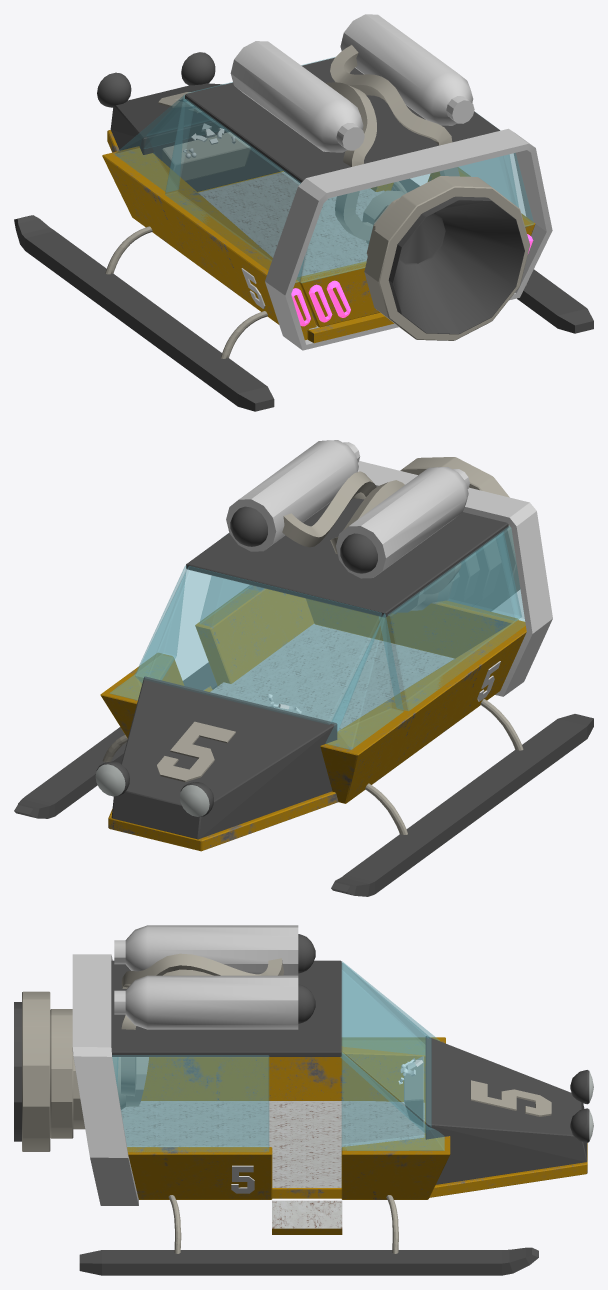
The model's file is skool-flyer-2.fbx.
3 views of the same model, one above another, from view 1: azimuth 30°, elevation 25°; view 2: azimuth 150°, elevation 25°; view 3: azimuth 270°, elevation 25° (orthographic). The views are drawn at different scales.
Parts seen in each view (by area): view 1: mesh_903776124.003, mesh_903776124.029, mesh_903776124.046, mesh_903776124.008, mesh_903776124.024, mesh_903776124.015, mesh_903776124.012, mesh_903776124.048, mesh_903776124.063, mesh_903776124.055, mesh_903776124.001, mesh_903776124.010 (+11 smaller); view 2: mesh_903776124.045, mesh_903776124.010, mesh_903776124.046, mesh_903776124.015, mesh_903776124.012, mesh_903776124.008, mesh_903776124.024, mesh_903776124.011, mesh_903776124.029, mesh_903776124.013, mesh_903776124.063, mesh_903776124.055 (+20 smaller); view 3: mesh_903776124.012, mesh_903776124.010, mesh_903776124.047, mesh_903776124.008, mesh_903776124.026, mesh_903776124.029, mesh_903776124.015, mesh_903776124.055, mesh_903776124.045, mesh_903776124.011, mesh_903776124.063, mesh_903776124.014 (+18 smaller).
Boxes of the visible parts, x1,y1,x2,y2 form: mesh_903776124.003: (388, 196, 524, 334); mesh_903776124.029: (265, 128, 552, 350); mesh_903776124.046: (165, 99, 304, 282); mesh_903776124.008: (102, 146, 316, 340); mesh_903776124.024: (14, 215, 274, 411); mesh_903776124.015: (185, 57, 499, 183); mesh_903776124.012: (198, 172, 393, 343); mesh_903776124.048: (297, 154, 518, 283); mesh_903776124.063: (230, 41, 363, 152); mesh_903776124.055: (340, 14, 473, 125); mesh_903776124.001: (364, 176, 529, 340); mesh_903776124.010: (110, 83, 282, 191); mesh_903776124.045: (135, 566, 382, 731); mesh_903776124.010: (111, 676, 337, 839); mesh_903776124.046: (379, 526, 525, 711); mesh_903776124.015: (186, 498, 508, 617); mesh_903776124.012: (210, 624, 454, 730); mesh_903776124.008: (320, 620, 526, 803); mesh_903776124.024: (331, 714, 593, 896); mesh_903776124.011: (195, 585, 313, 685); mesh_903776124.029: (357, 461, 552, 696); mesh_903776124.013: (306, 598, 518, 658); mesh_903776124.063: (349, 467, 468, 576); mesh_903776124.055: (239, 440, 358, 549); mesh_903776124.012: (121, 1101, 425, 1198); mesh_903776124.010: (425, 1036, 587, 1184); mesh_903776124.047: (112, 1055, 269, 1151); mesh_903776124.008: (141, 1037, 445, 1102); mesh_903776124.026: (79, 1247, 538, 1275); mesh_903776124.029: (72, 954, 138, 1205); mesh_903776124.015: (111, 960, 341, 1056); mesh_903776124.055: (125, 975, 298, 1029); mesh_903776124.045: (340, 963, 431, 1133); mesh_903776124.011: (127, 1147, 272, 1199); mesh_903776124.063: (125, 925, 298, 975); mesh_903776124.014: (341, 1136, 450, 1199).
Bounding box in the file's own units: 65.53 × 46.47 × 100.
10 materials, 2 textured.
